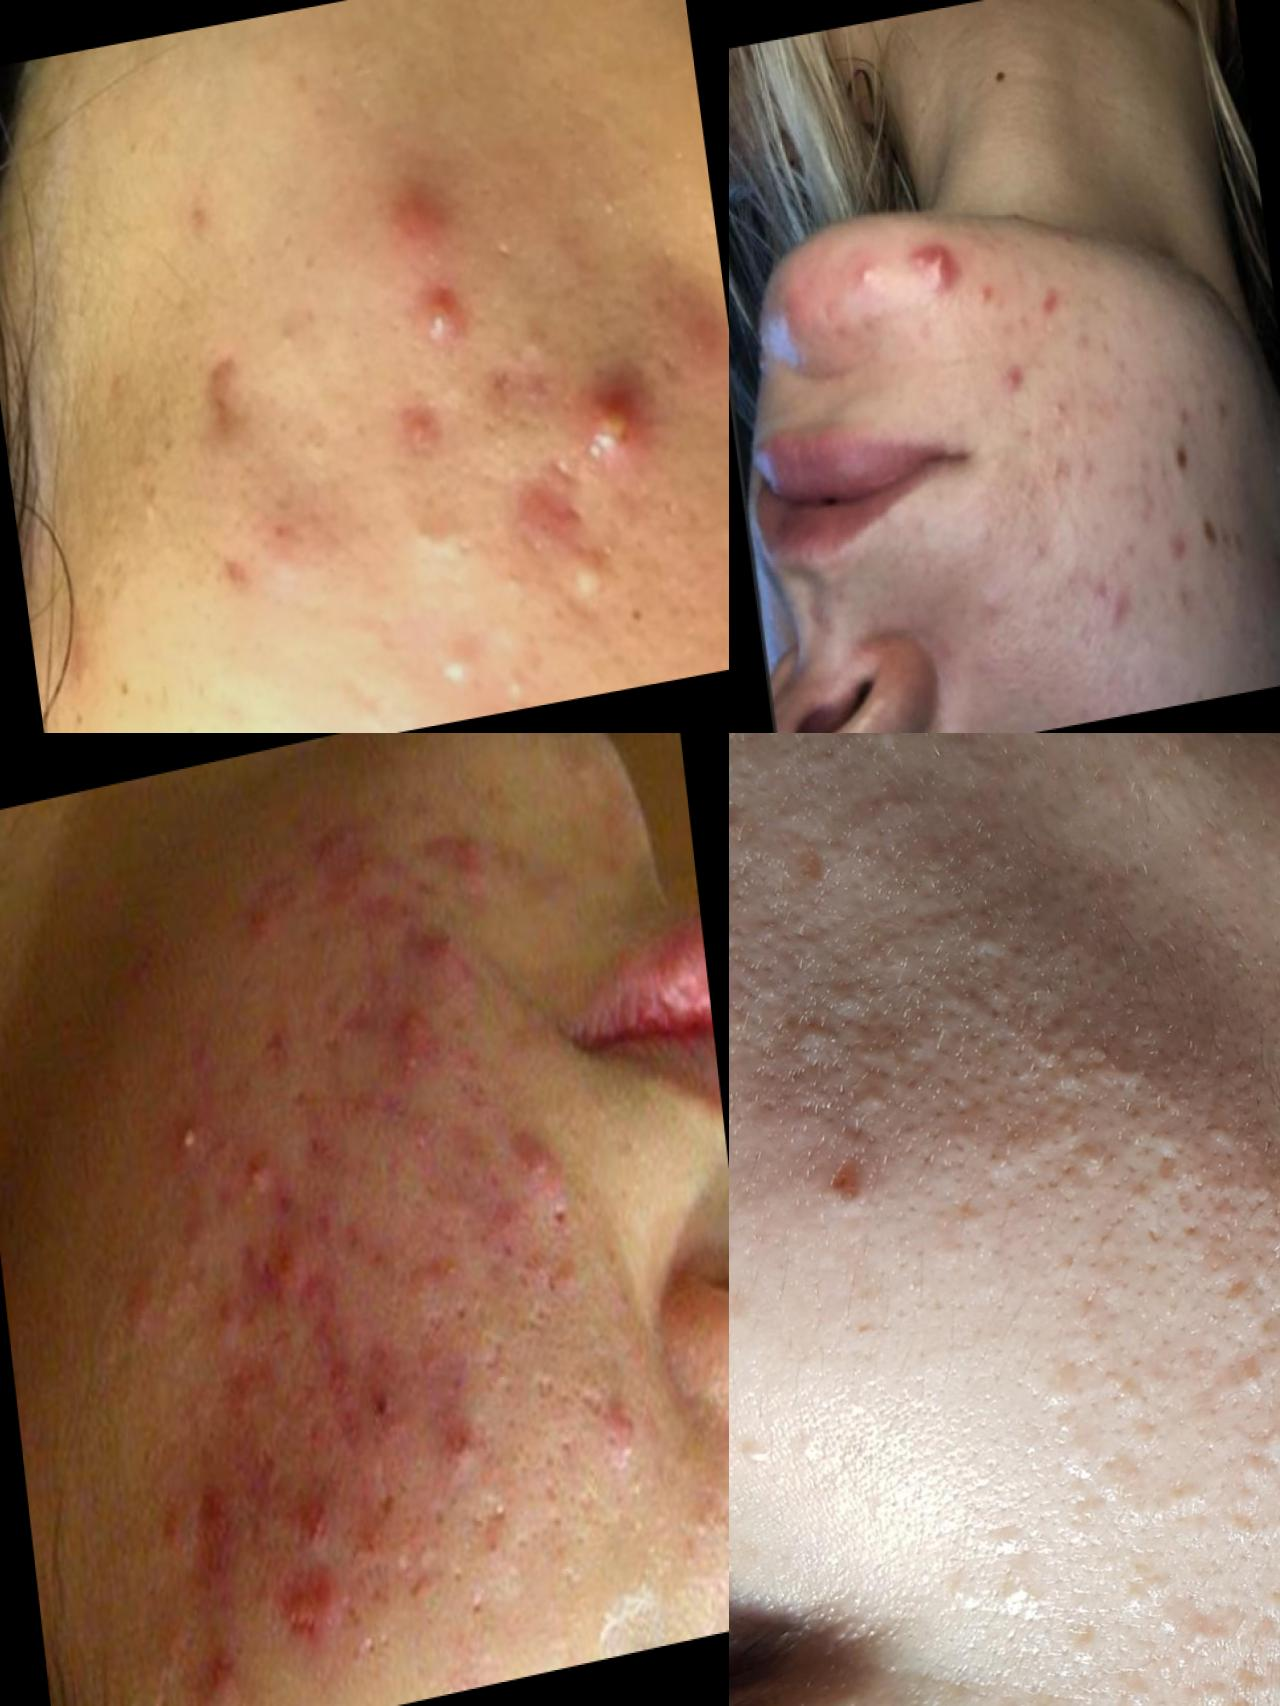acne_scars: (401, 276, 481, 366)
cystic: (557, 358, 671, 493), (899, 233, 973, 313)
flat_wart: (994, 1317, 1181, 1530), (1139, 1586, 1280, 1706), (928, 1555, 1047, 1643)
milium: (730, 1405, 791, 1529)
papular: (153, 1472, 251, 1611), (374, 138, 475, 269), (421, 796, 516, 903), (497, 1110, 586, 1223), (282, 1543, 363, 1656), (211, 1338, 288, 1434), (378, 989, 454, 1085), (421, 1398, 503, 1481), (191, 1625, 276, 1705), (403, 920, 481, 1002), (264, 1210, 320, 1305), (592, 1389, 645, 1468), (994, 341, 1043, 410), (848, 239, 899, 302), (1021, 522, 1057, 571)
purulent: (157, 1088, 229, 1184), (233, 1143, 286, 1213)
sebo-crystan-conglo: (282, 1463, 351, 1570)
whitehead: (1053, 1074, 1273, 1213), (801, 1059, 916, 1167), (550, 534, 635, 622), (389, 384, 465, 481), (479, 540, 543, 608), (298, 390, 336, 479), (399, 495, 445, 562), (492, 651, 549, 700), (433, 636, 485, 688), (264, 307, 307, 366), (133, 492, 161, 536)
